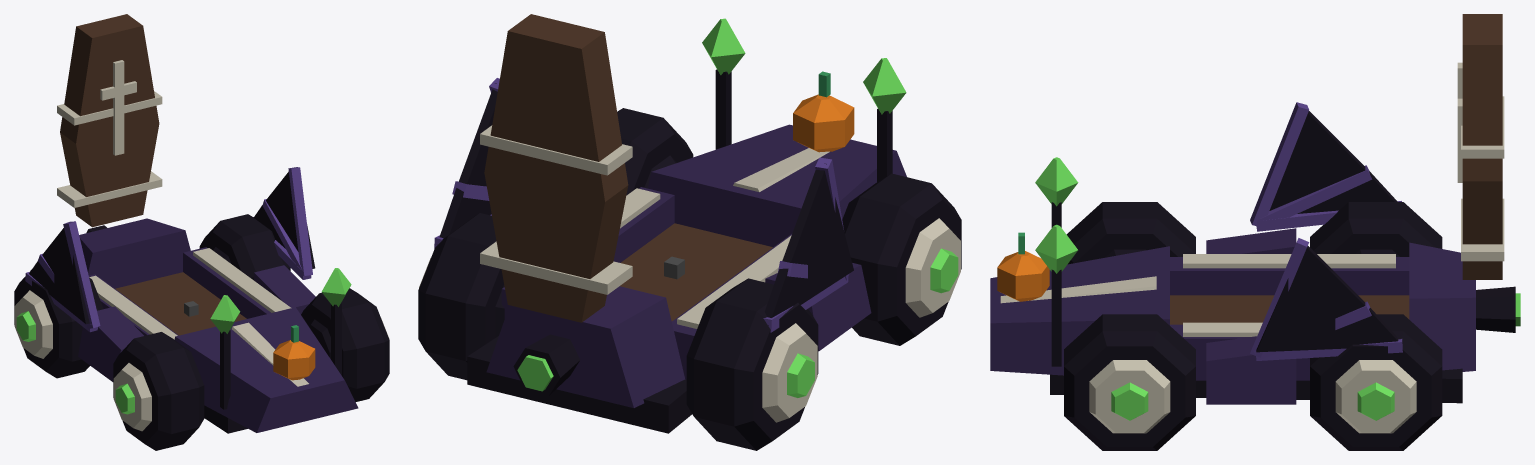
Rendered from kart-graveyard.glb.
The picture shows the model from 3 angles, left to right: view 1: azimuth 30°, elevation 25°; view 2: azimuth 150°, elevation 25°; view 3: azimuth 270°, elevation 25°; orthographic projection. The views are drawn at different scales.
Parts seen in each view (by area): view 1: kart-graveyard, wheel-front-right, wheel-front-left, wheel-back-right, wheel-back-left; view 2: kart-graveyard, wheel-back-right, wheel-front-right, wheel-back-left, wheel-front-left; view 3: kart-graveyard, wheel-front-left, wheel-back-left, wheel-front-right, wheel-back-right.
Boxes of the visible parts, <box> form: kart-graveyard: <box>25,14,358,433</box>; wheel-front-right: <box>113,332,204,450</box>; wheel-front-left: <box>301,288,389,401</box>; wheel-back-right: <box>14,269,103,378</box>; wheel-back-left: <box>199,214,290,280</box>; kart-graveyard: <box>434,14,906,433</box>; wheel-back-right: <box>686,278,818,450</box>; wheel-front-right: <box>842,173,961,345</box>; wheel-back-left: <box>418,213,504,380</box>; wheel-front-left: <box>617,108,693,195</box>; kart-graveyard: <box>990,14,1520,404</box>; wheel-front-left: <box>1064,314,1195,450</box>; wheel-back-left: <box>1310,314,1442,450</box>; wheel-front-right: <box>1066,202,1195,264</box>; wheel-back-right: <box>1310,202,1442,256</box>.
Size of the model in its own units: 1.12 by 1.18 by 1.6.
